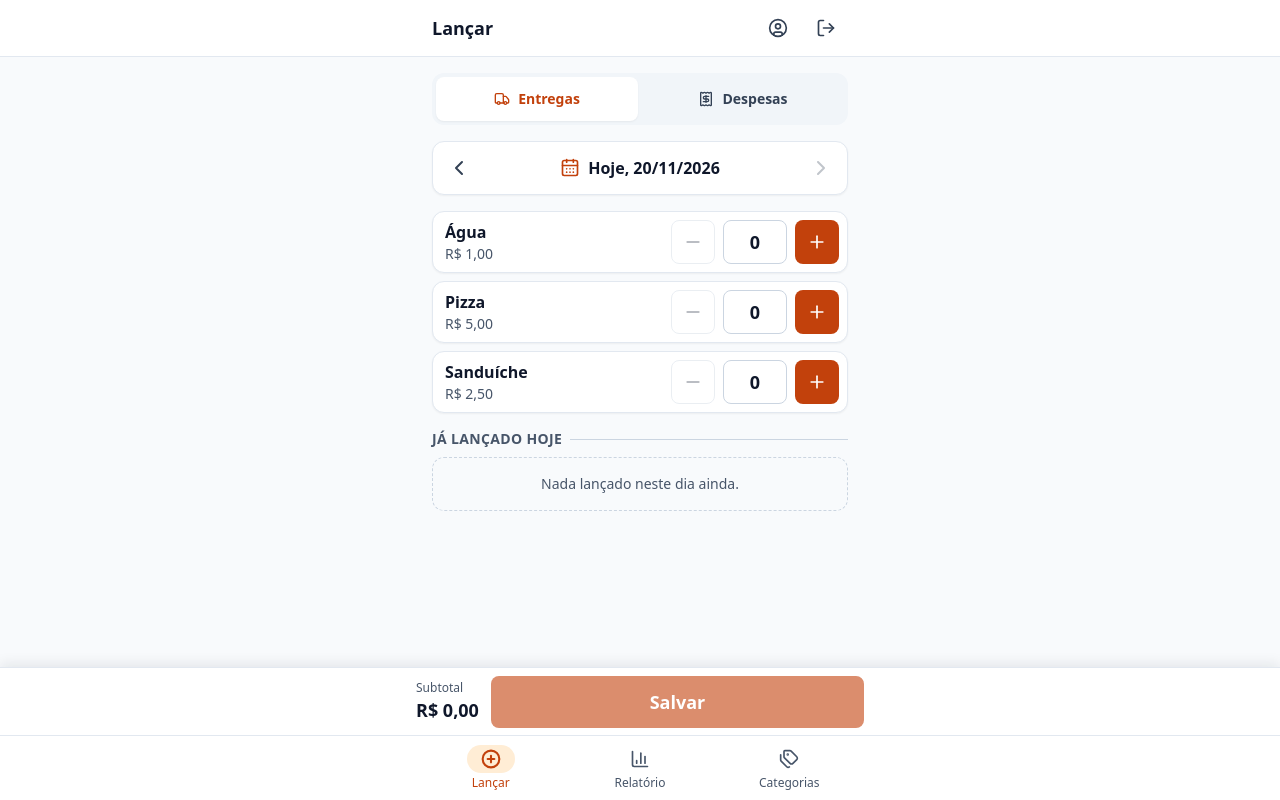
Test: LancamentosPage › salva em lote sem valor_unitario, ignora qtd 0, zera os steppers e mostra o total
Replace the text in the field named "Sanduíche" in the row of "Sanduíche" with "50" at coordinates (755, 382), box [723,360,787,404]
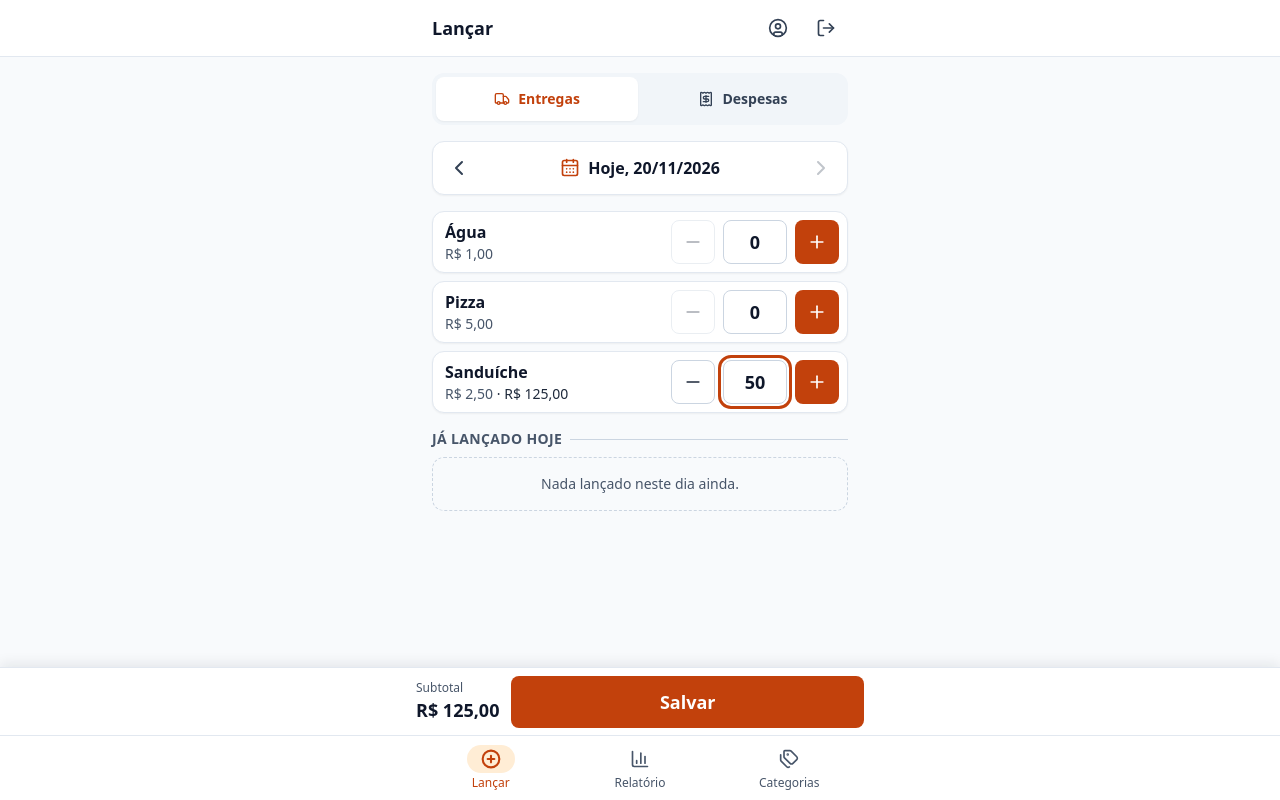
Replace the text in the field named "Pizza" in the row of "Pizza" with "20" at coordinates (755, 312), box [723,290,787,334]
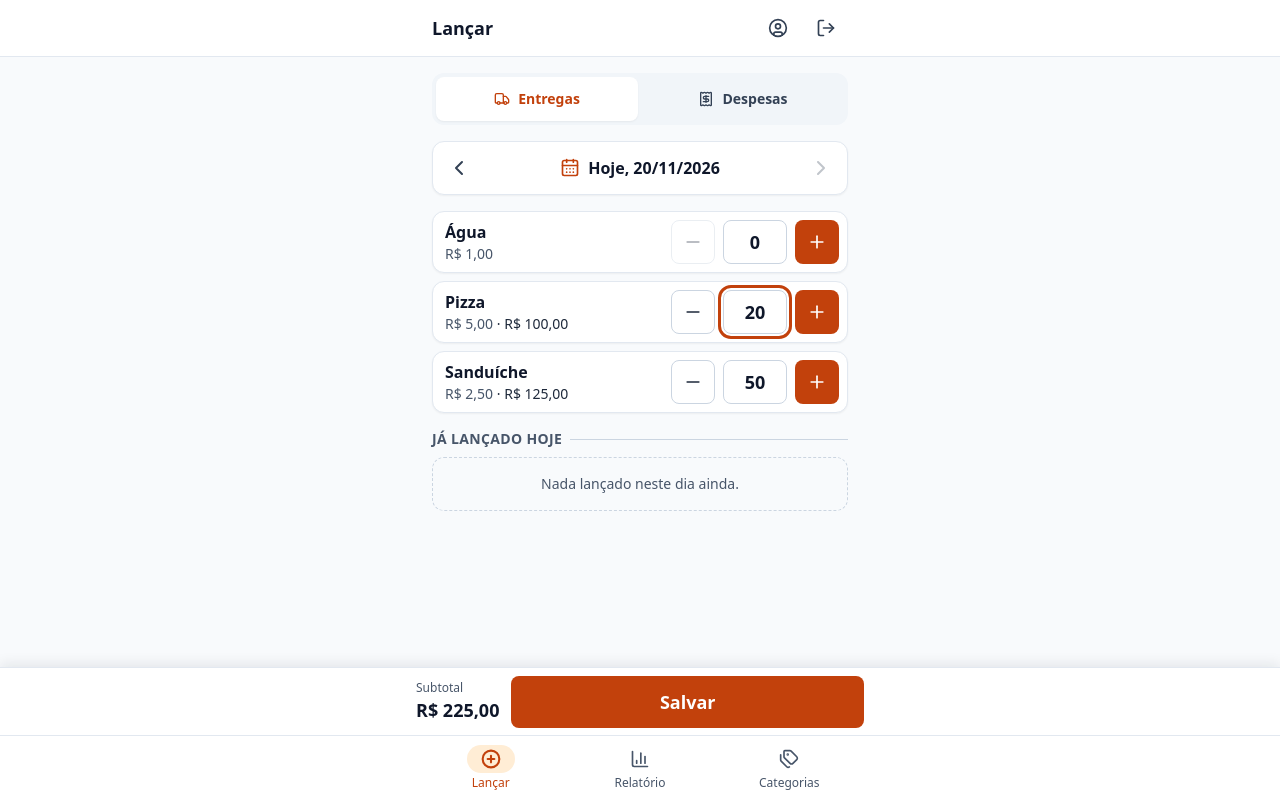
Click the button "Salvar".
click(688, 702)  # box [512,676,864,728]
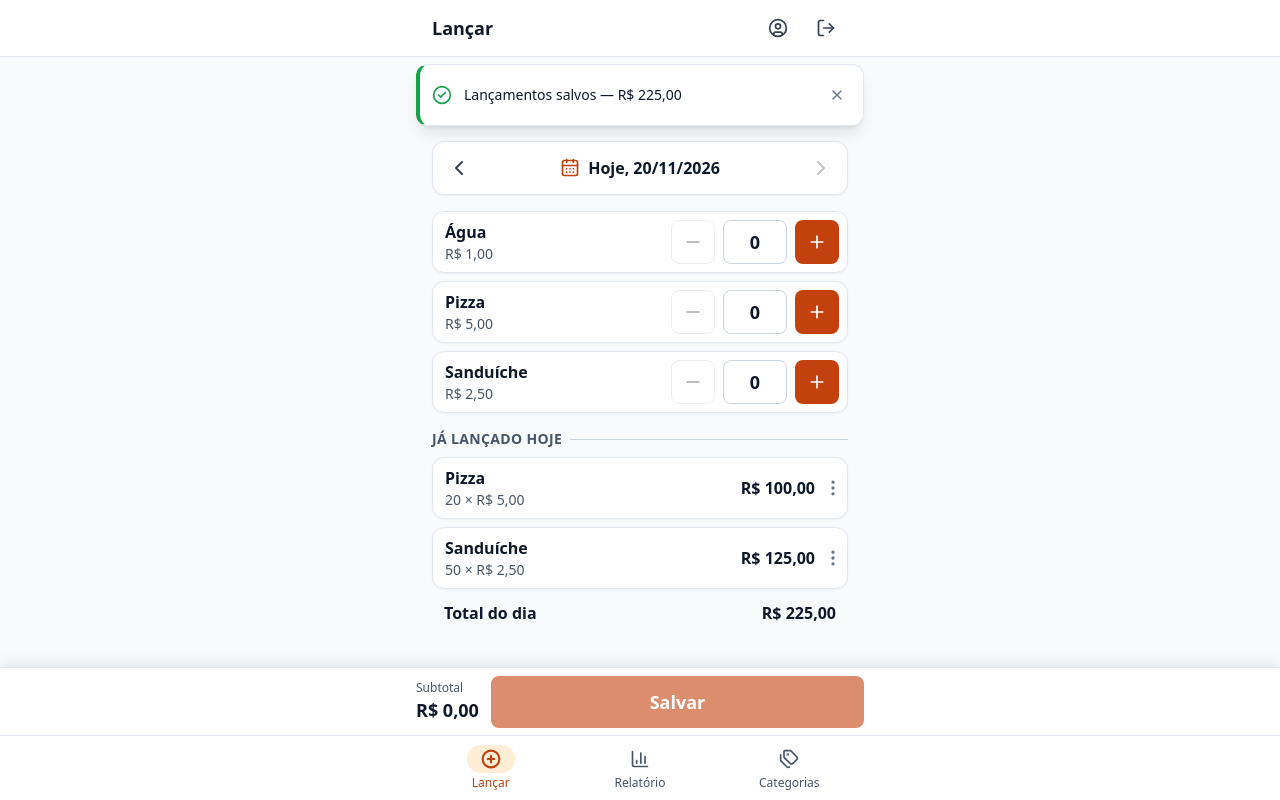
Now the text "Lançamentos salvos — R$ 225,00" is shown, box [464,85,682,104]
Now the 3rd field named "Sanduíche" holds "0", box [723,360,787,404]
Now the 2nd field named "Pizza" holds "0", box [723,290,787,334]
